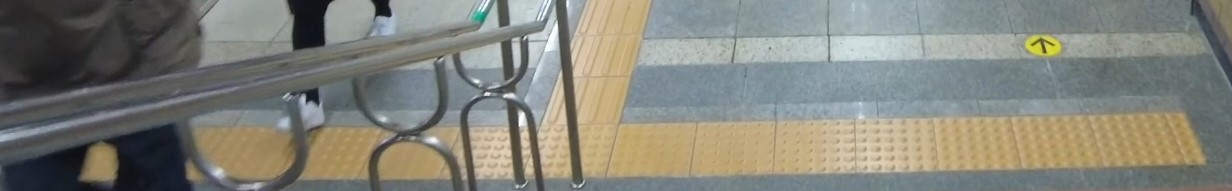guideBlock: (558, 72, 625, 107), (585, 1, 647, 37), (568, 35, 622, 67)
warningBlock: (693, 119, 797, 190), (1097, 119, 1203, 176), (862, 126, 966, 182), (370, 125, 467, 177), (209, 128, 318, 174), (937, 119, 1029, 170), (458, 124, 550, 175), (779, 124, 859, 178), (619, 120, 691, 177), (529, 123, 609, 170), (300, 130, 389, 172), (1027, 109, 1096, 162)
